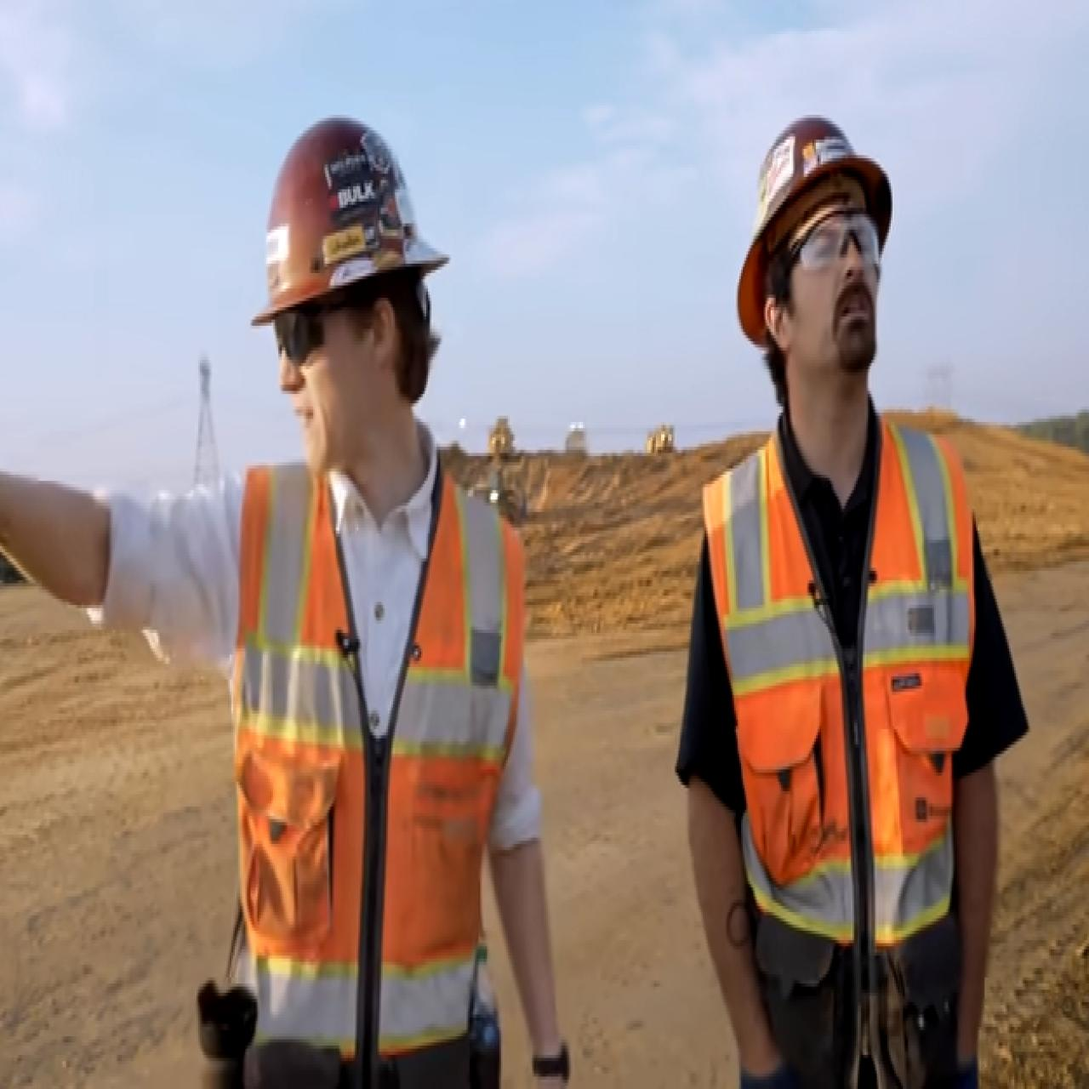Person: (73, 77, 576, 1089), (660, 62, 1029, 1089)
Safety_Vest: (224, 449, 534, 1089), (698, 420, 980, 955)
